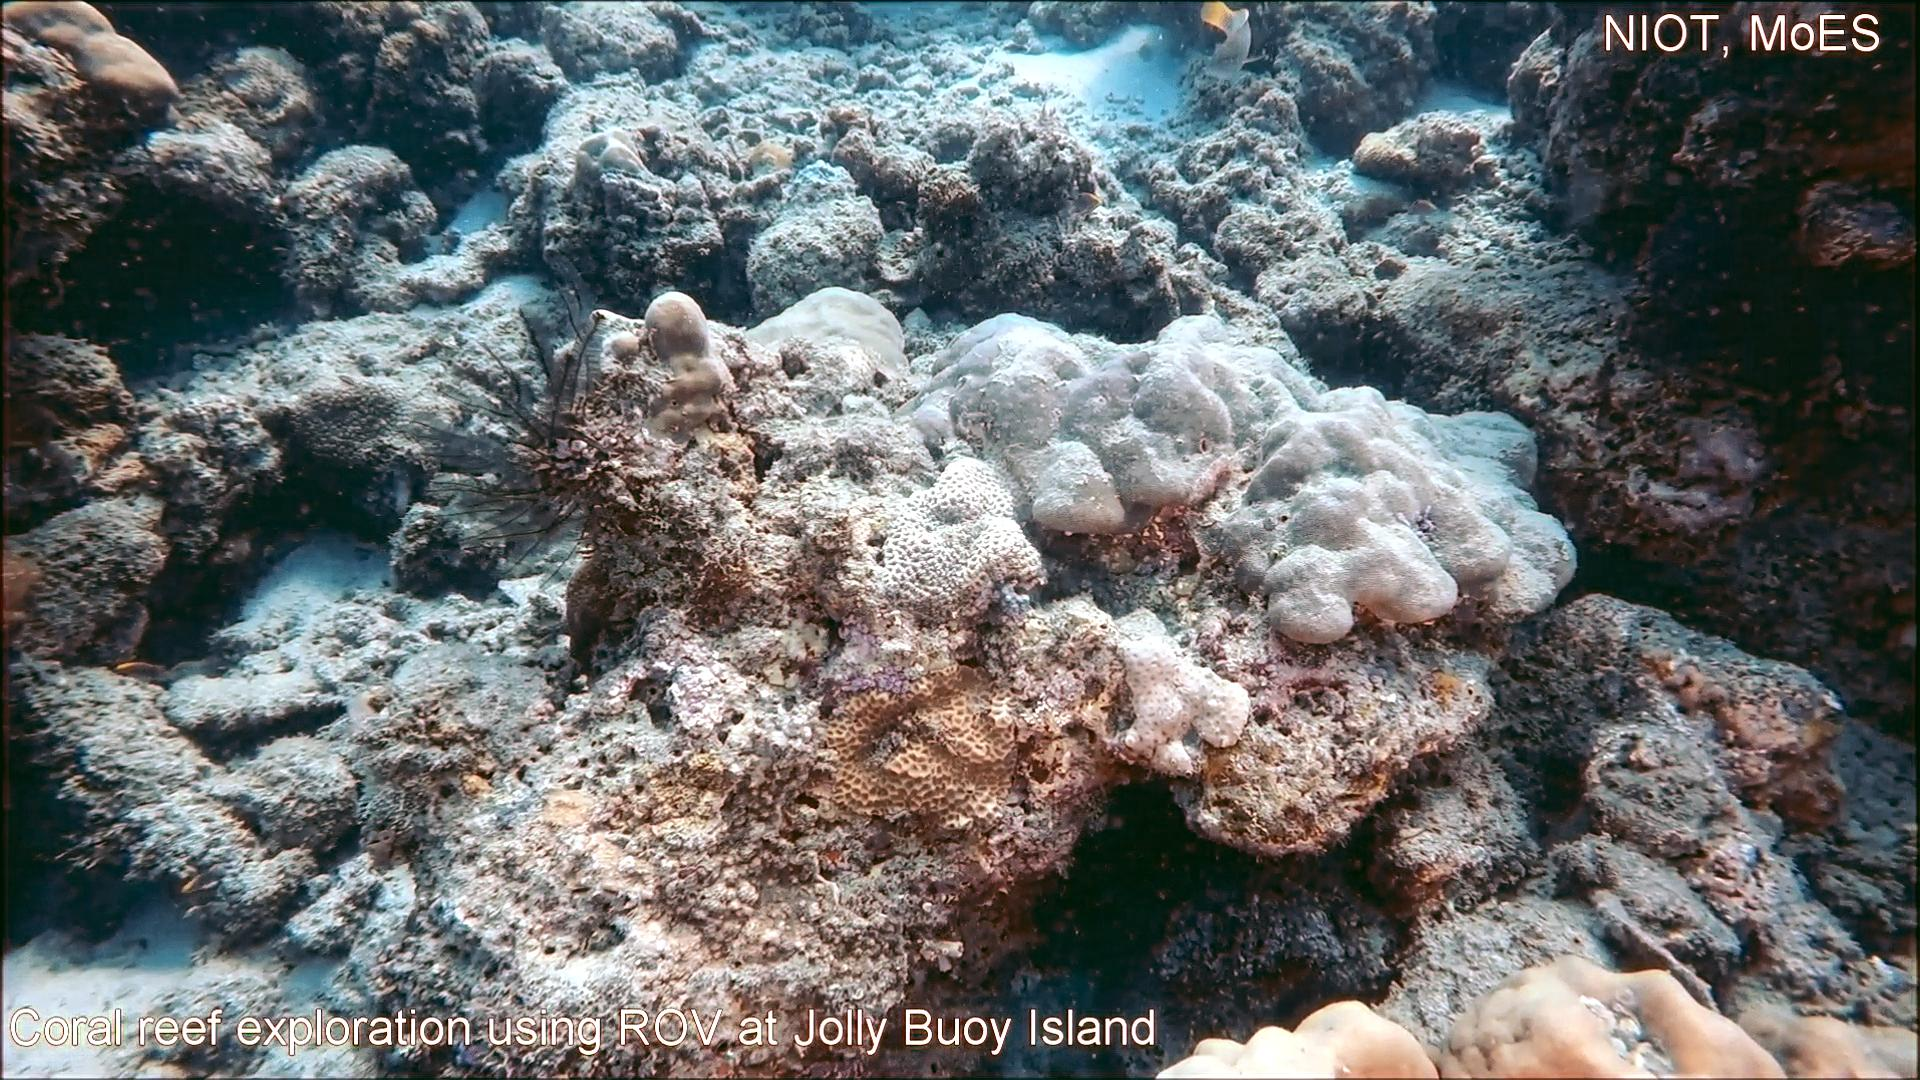Feather star-Crinoid star: (352, 240, 617, 600)
Goniastrea-Goniastrea pectinata: (876, 447, 1055, 637)
Porites-Porites pukoensis: (1131, 309, 1582, 649)
Turbinaria-Turbinaria stellulata: (280, 363, 426, 475)
